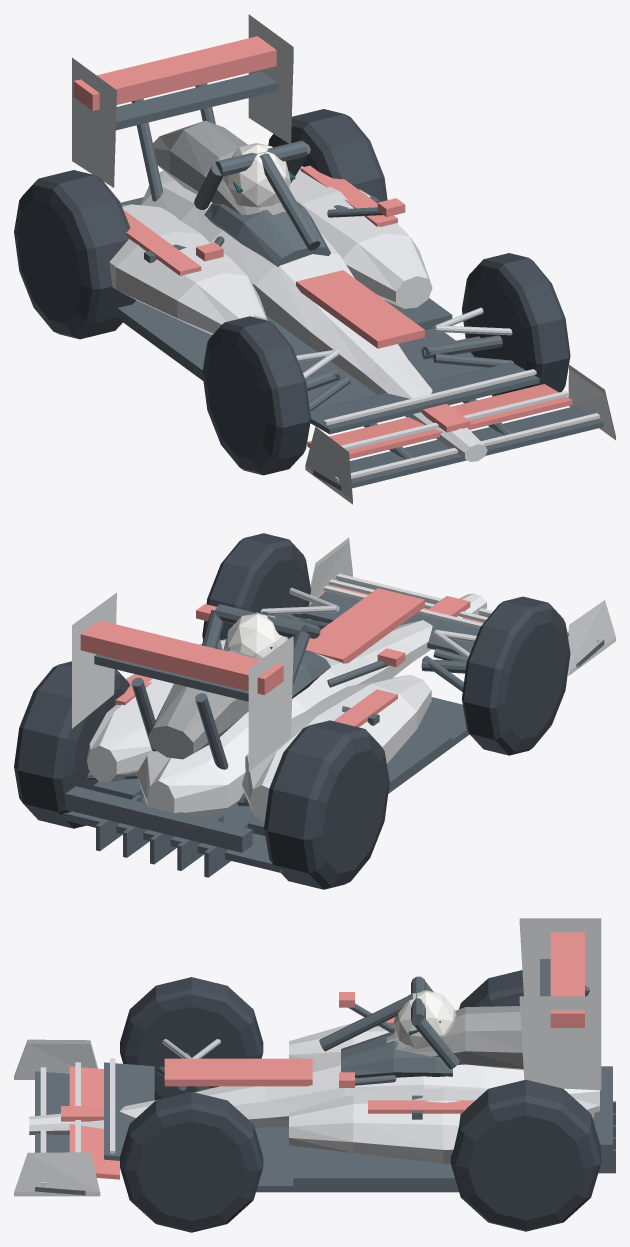
File: haas_mobile.glb
The picture shows the model from 3 angles, top to bottom: view 1: azimuth 30°, elevation 25°; view 2: azimuth 150°, elevation 25°; view 3: azimuth 270°, elevation 25°; orthographic projection. The views are drawn at different scales.
Visible parts, largest first — view 1: BODY_paint, BODY_carbon, BODY_accent, RearLeftWheel_rubber, FrontLeftWheel_rubber, FrontRightWheel_rubber, RearRightWheel_rubber, BODY_paint_dark, BODY_helmet, BODY_metal; view 2: BODY_paint, BODY_carbon, RearLeftWheel_rubber, BODY_accent, FrontLeftWheel_rubber, RearRightWheel_rubber, FrontRightWheel_rubber, BODY_paint_dark, BODY_helmet, BODY_metal; view 3: BODY_paint, BODY_carbon, RearRightWheel_rubber, FrontRightWheel_rubber, BODY_accent, FrontLeftWheel_rubber, BODY_paint_dark, BODY_helmet, RearLeftWheel_rubber.
Part boxes in pixels (x1,y1,x2,y2): BODY_paint: [72, 14, 615, 504]; BODY_carbon: [116, 71, 603, 490]; BODY_accent: [73, 36, 572, 458]; RearLeftWheel_rubber: [14, 170, 135, 339]; FrontLeftWheel_rubber: [202, 316, 310, 475]; FrontRightWheel_rubber: [462, 253, 570, 396]; RearRightWheel_rubber: [268, 109, 387, 201]; BODY_paint_dark: [153, 120, 285, 215]; BODY_helmet: [223, 143, 290, 207]; BODY_metal: [296, 307, 512, 379]; BODY_paint: [72, 537, 615, 821]; BODY_carbon: [56, 579, 604, 877]; RearLeftWheel_rubber: [264, 720, 389, 889]; BODY_accent: [80, 585, 483, 727]; FrontLeftWheel_rubber: [462, 596, 570, 755]; RearRightWheel_rubber: [14, 661, 130, 828]; FrontRightWheel_rubber: [202, 533, 310, 640]; BODY_paint_dark: [148, 650, 260, 759]; BODY_helmet: [223, 612, 288, 659]; BODY_metal: [260, 587, 476, 659]; BODY_paint: [14, 918, 601, 1196]; BODY_carbon: [35, 959, 615, 1195]; RearRightWheel_rubber: [450, 1079, 601, 1231]; FrontRightWheel_rubber: [120, 1091, 263, 1232]; BODY_accent: [61, 932, 584, 1179]; FrontLeftWheel_rubber: [120, 977, 263, 1100]; BODY_paint_dark: [386, 1006, 523, 1069]; BODY_helmet: [393, 990, 456, 1049]; RearLeftWheel_rubber: [459, 970, 523, 1009].
Bounding box in the file's own units: 2.59 × 1.9 × 4.88.
